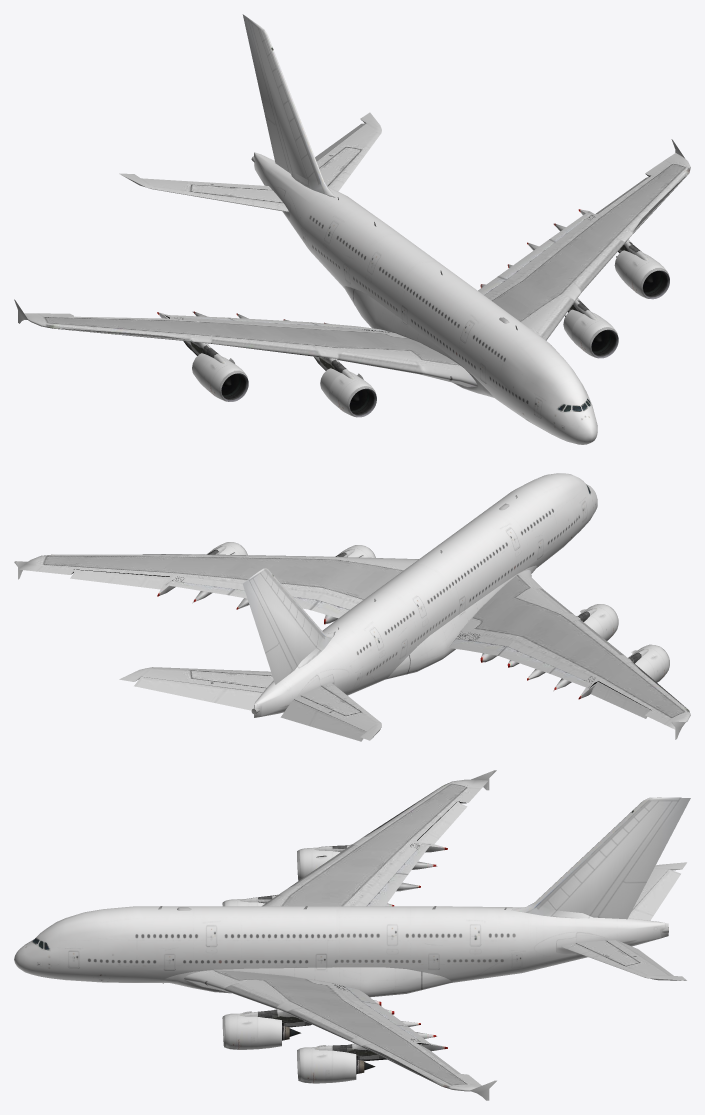
The picture shows the model from 3 angles, top to bottom: view 1: azimuth 30°, elevation 25°; view 2: azimuth 150°, elevation 25°; view 3: azimuth 270°, elevation 25°; orthographic projection. The views are drawn at different scales.
Visible parts, largest first — view 1: Object_11_material03_0, Object_5_material00_0, Object_7_material02_0; view 2: Object_11_material03_0, Object_5_material00_0, Object_7_material02_0; view 3: Object_5_material00_0, Object_11_material03_0, Object_7_material02_0.
Part boxes in pixels (box(x1,y1,x2,y2)): Object_11_material03_0: box(24, 112, 690, 417); Object_5_material00_0: box(254, 152, 597, 444); Object_7_material02_0: box(14, 14, 684, 417); Object_11_material03_0: box(19, 546, 690, 741); Object_5_material00_0: box(254, 473, 597, 717); Object_7_material02_0: box(14, 542, 685, 739); Object_5_material00_0: box(14, 906, 668, 997); Object_11_material03_0: box(184, 779, 686, 1091); Object_7_material02_0: box(222, 770, 690, 1100).
Bounding box in the file's own units: 7.24 × 2.1 × 6.66.
4 materials, 4 textured.
